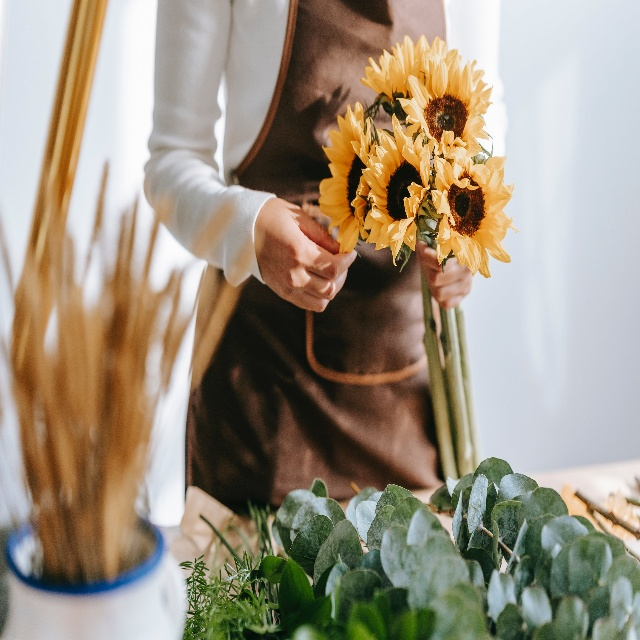Sin_guantes: (254, 191, 356, 313), (413, 234, 474, 311)
